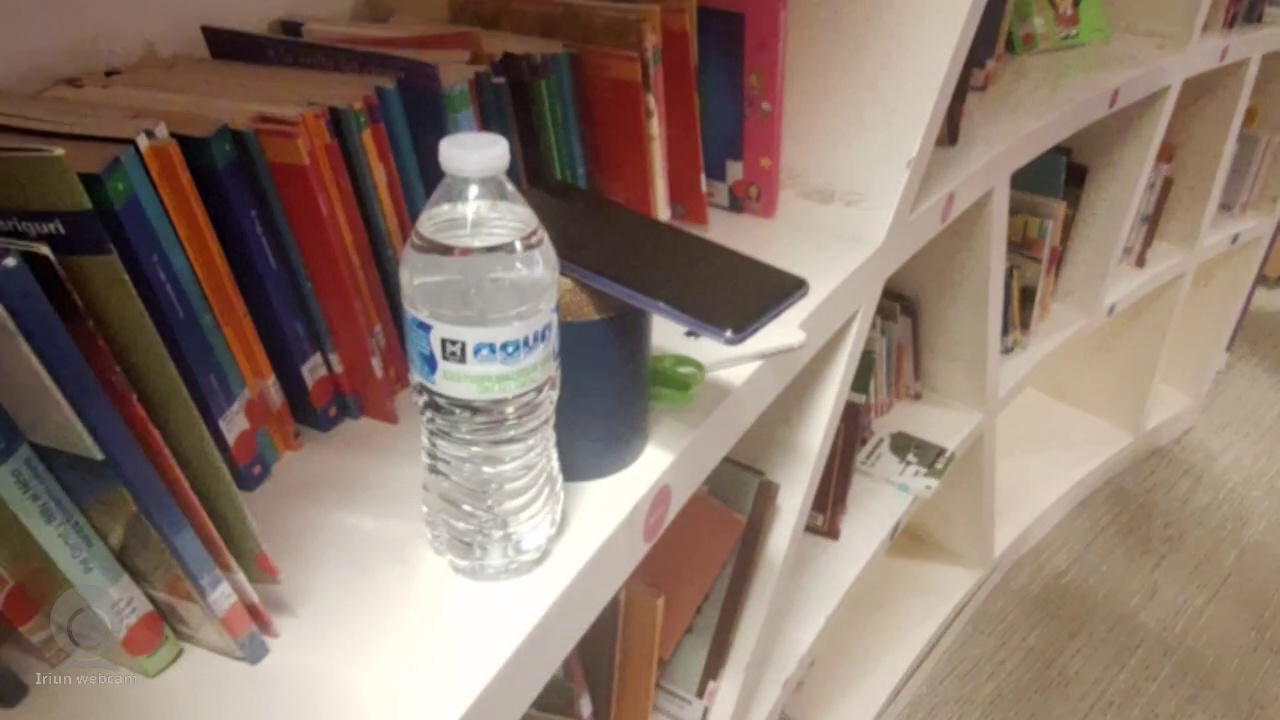botella: (402, 123, 568, 581)
